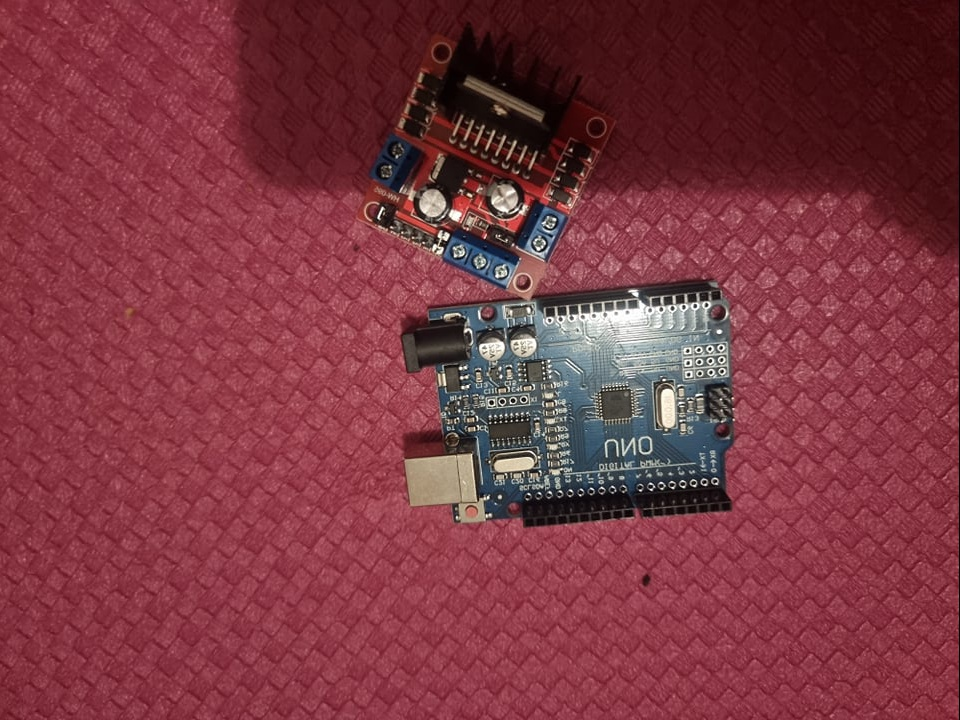MOTOR: (352, 35, 627, 300)
UNO R3: (390, 282, 743, 524)
